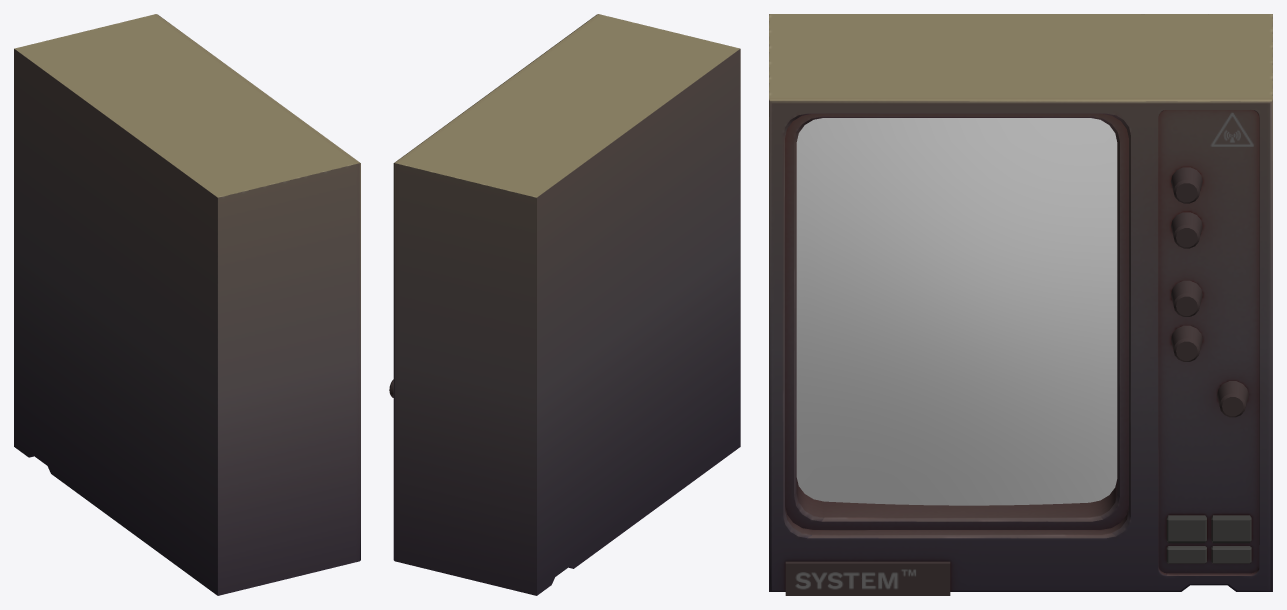
Rendered from Screen.glb.
The picture shows the model from 3 angles, left to right: view 1: azimuth 30°, elevation 25°; view 2: azimuth 150°, elevation 25°; view 3: azimuth 270°, elevation 25°; orthographic projection. The views are drawn at different scales.
Visible parts, largest first — view 1: Cube.007; view 2: Cube.007; view 3: Cube.007, Cube.013.
Part boxes in pixels (left/top/right/bottom): Cube.007: left=14, top=14, right=360, bottom=595; Cube.007: left=389, top=14, right=740, bottom=595; Cube.007: left=769, top=14, right=1272, bottom=595; Cube.013: left=796, top=118, right=1117, bottom=505.
Size of the model in its own units: 0.9812 by 2.35 by 2.17.
1 material, 1 textured.
